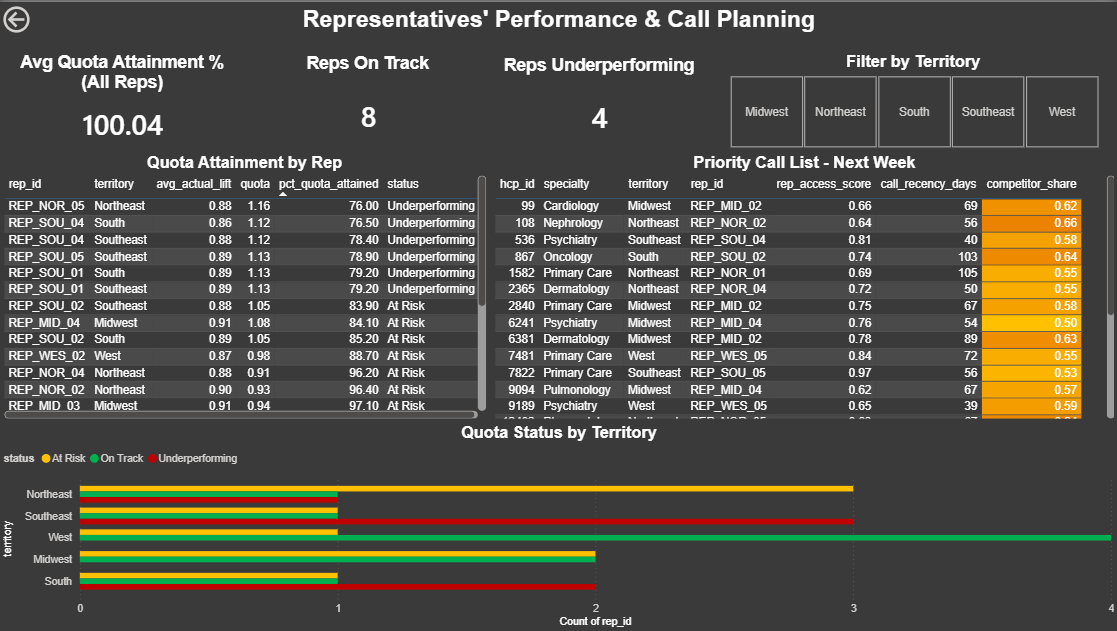

Layout of this report page (visuals, bound fields, positions):
{"tool":"powerbi","page":{"name":"Rep Performance","canvas":[1280,720],"ordinal":1},"visuals":[{"type":"textbox","box":[0,0,1280,57.1],"z":0},{"type":"tableEx","title":"Quota Attainment by Rep","fields":{"Values":["pharmaanalytics vw_quota_attainment.rep_id","pharmaanalytics vw_quota_attainment.territory","pharmaanalytics vw_quota_attainment.avg_actual_lift","pharmaanalytics vw_quota_attainment.quota","pharmaanalytics vw_quota_attainment.pct_quota_attained","pharmaanalytics vw_quota_attainment.status"]},"box":[0,172.9,561.4,308.6],"z":1000},{"type":"actionButton","box":[0,0,100,40],"z":2000},{"type":"tableEx","title":"Priority Call List - Next Week","fields":{"Values":["pharmaanalytics vw_priority_call_list.hcp_id","pharmaanalytics vw_priority_call_list.specialty","pharmaanalytics vw_priority_call_list.territory","pharmaanalytics vw_priority_call_list.rep_id","pharmaanalytics vw_priority_call_list.rep_access_score","pharmaanalytics vw_priority_call_list.call_recency_days","pharmaanalytics vw_priority_call_list.competitor_share"]},"box":[561.4,172.9,718.6,308.6],"z":3000},{"type":"clusteredBarChart","title":"Quota Status by Territory","fields":{"Category":["pharmaanalytics vw_quota_attainment.territory"],"Y":["CountNonNull(pharmaanalytics vw_quota_attainment.rep_id)"],"Series":["pharmaanalytics vw_quota_attainment.status"]},"box":[0,481.4,1280,238.6],"z":4000},{"type":"cardVisual","title":"Avg Quota Attainment % (All Reps)","fields":{"Data":["Avg(pharmaanalytics vw_quota_attainment.pct_quota_attained)"]},"box":[0,57.1,281.4,115.7],"z":5000},{"type":"cardVisual","title":"Reps On Track","fields":{"Data":["TierSummary.Reps On Track"]},"box":[281.4,58.6,280,115.7],"z":6000},{"type":"cardVisual","title":"Reps Underperforming","fields":{"Data":["TierSummary.Reps Underperforming"]},"box":[561.4,60,248.6,115.7],"z":7000},{"type":"slicer","title":"Filter by Territory","fields":{"Values":["pharmaanalytics vw_quota_attainment.territory"]},"box":[810,57.1,470,115.7],"z":8000}]}

Visuals, with their boxes in screenshot pixels (x1, y1, x2, y2), scaled from the page's 1280x720 canvas onto the 1117x631 screenshot:
textbox: (left=0, top=0, right=1116, bottom=50)
"Quota Attainment by Rep" tableEx: (left=0, top=152, right=490, bottom=422)
actionButton: (left=0, top=0, right=87, bottom=35)
"Priority Call List - Next Week" tableEx: (left=490, top=152, right=1116, bottom=422)
"Quota Status by Territory" clusteredBarChart: (left=0, top=422, right=1116, bottom=630)
"Avg Quota Attainment % (All Reps)" cardVisual: (left=0, top=50, right=246, bottom=151)
"Reps On Track" cardVisual: (left=246, top=51, right=490, bottom=153)
"Reps Underperforming" cardVisual: (left=490, top=53, right=707, bottom=154)
"Filter by Territory" slicer: (left=707, top=50, right=1116, bottom=151)
